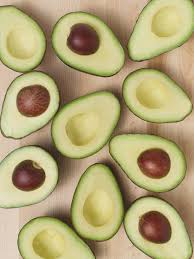aguacate: (43, 7, 135, 84), (71, 156, 128, 245), (108, 132, 187, 194)
